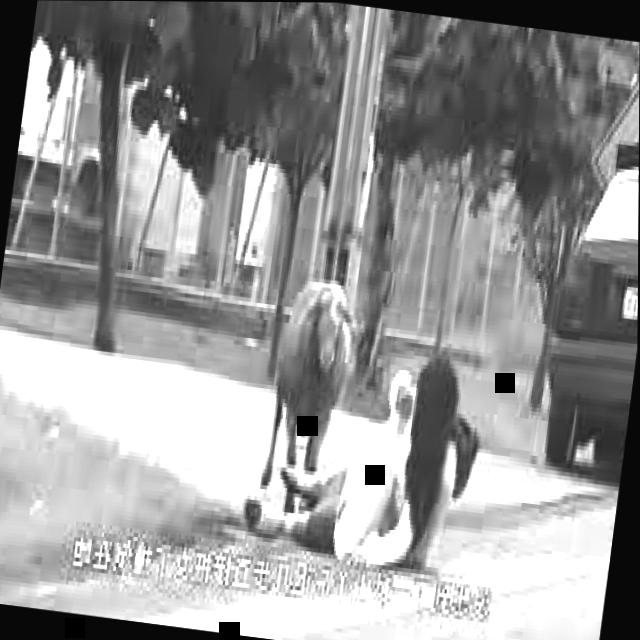Fall-Detected: (234, 303, 509, 584)
